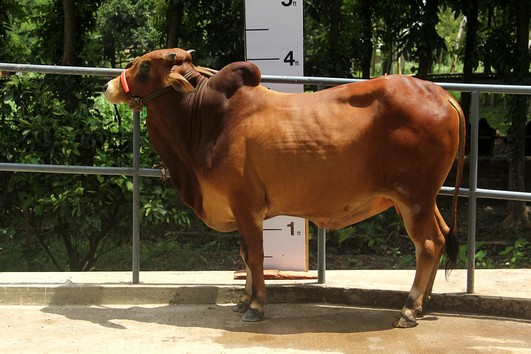cow: (98, 38, 470, 332)
